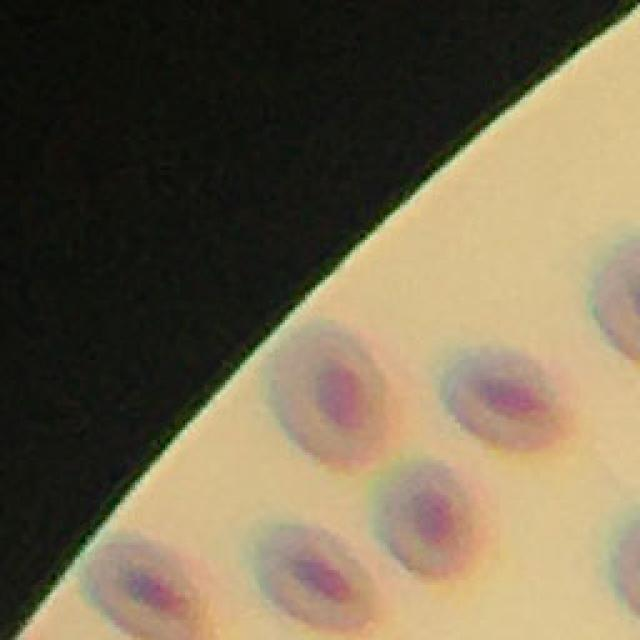RBC: (263, 320, 400, 470), (366, 455, 492, 584), (246, 520, 384, 637), (436, 344, 582, 452), (75, 536, 224, 640), (594, 240, 640, 359)
